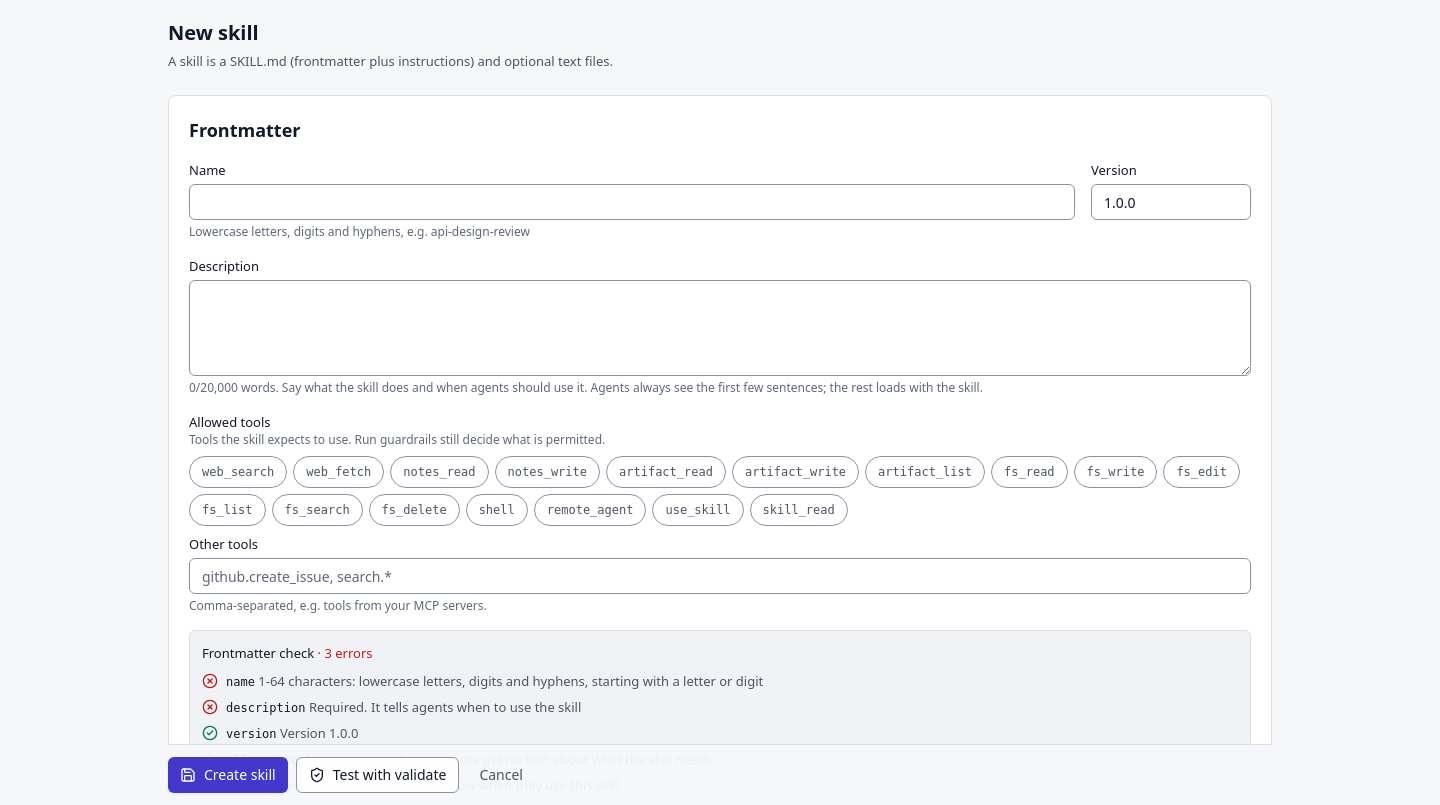
Test case: Authoring helpers › gives live frontmatter feedback and a source preview
The image size is (1440, 805).
Check: the element "Frontmatter check" shows "3 errors", box x1=318 y1=644 x2=372 y2=662
Type "my-skill" into the field labelled "Name". click: (632,202)
box: x1=189 y1=184 x2=1075 y2=220
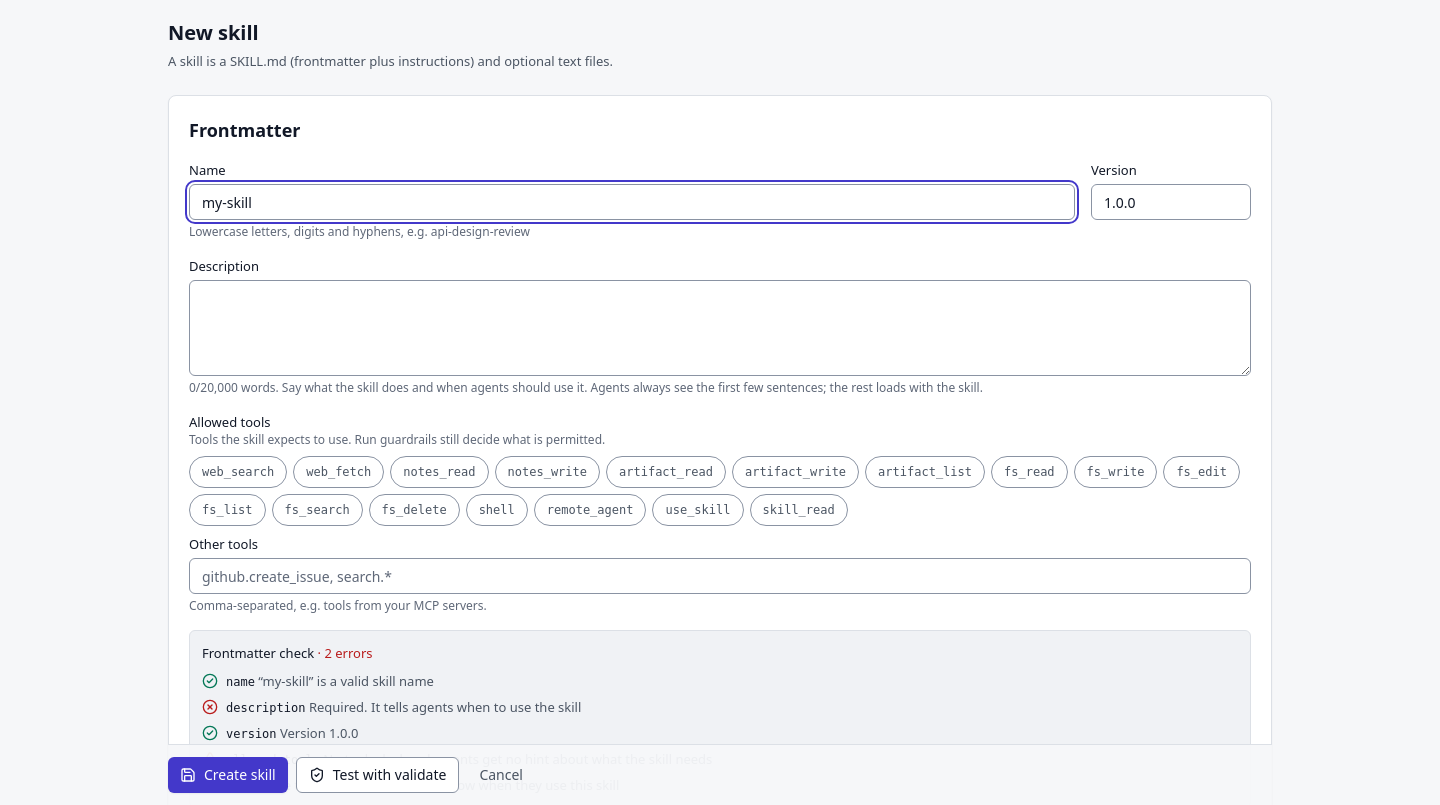
Type "Does a thing. Use when needed." into the text box labelled "Description". click: (720,328)
box: x1=189 y1=280 x2=1251 y2=376
(page scrolled)
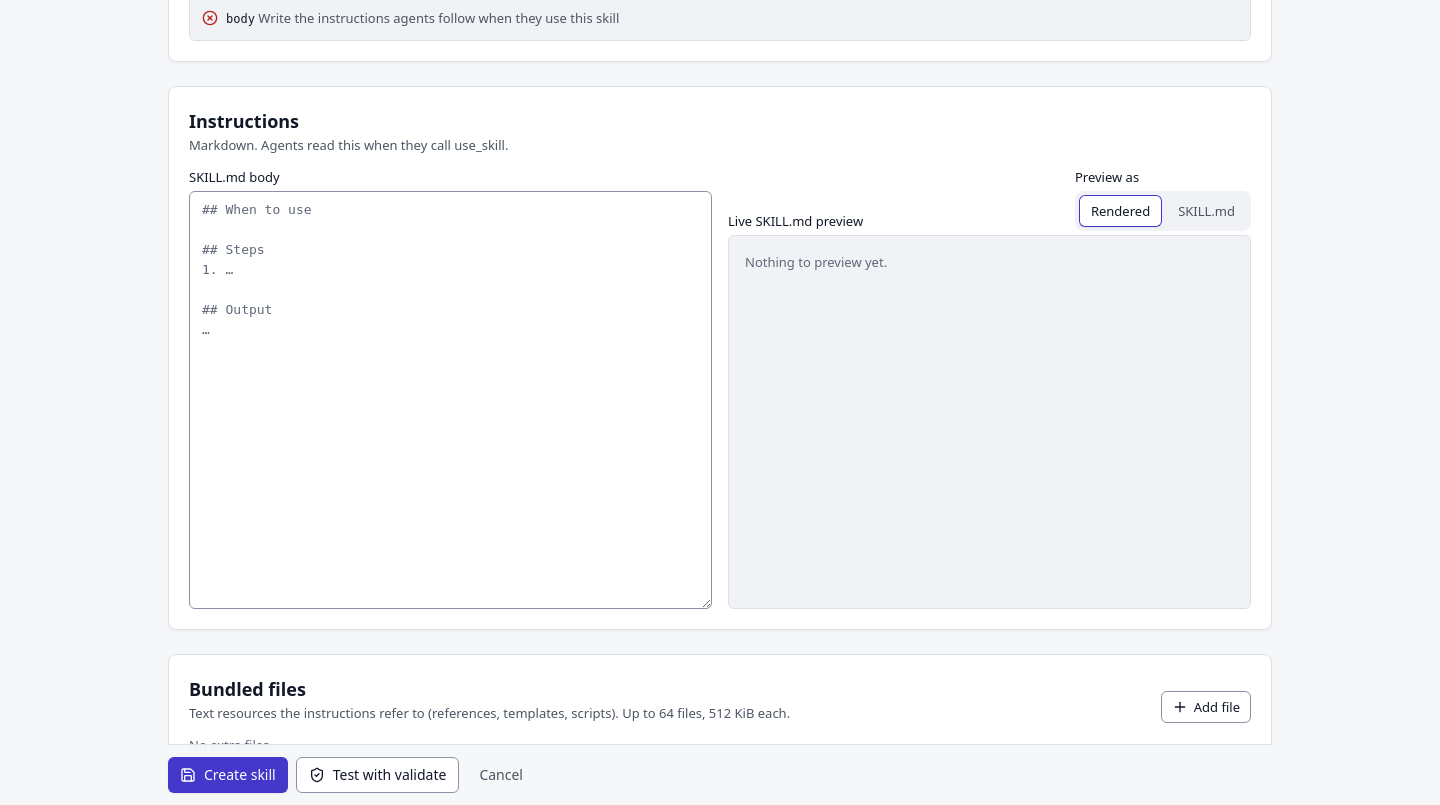
Type "Step one." into the text box labelled "SKILL.md body". click: (450,400)
box: x1=189 y1=191 x2=712 y2=609
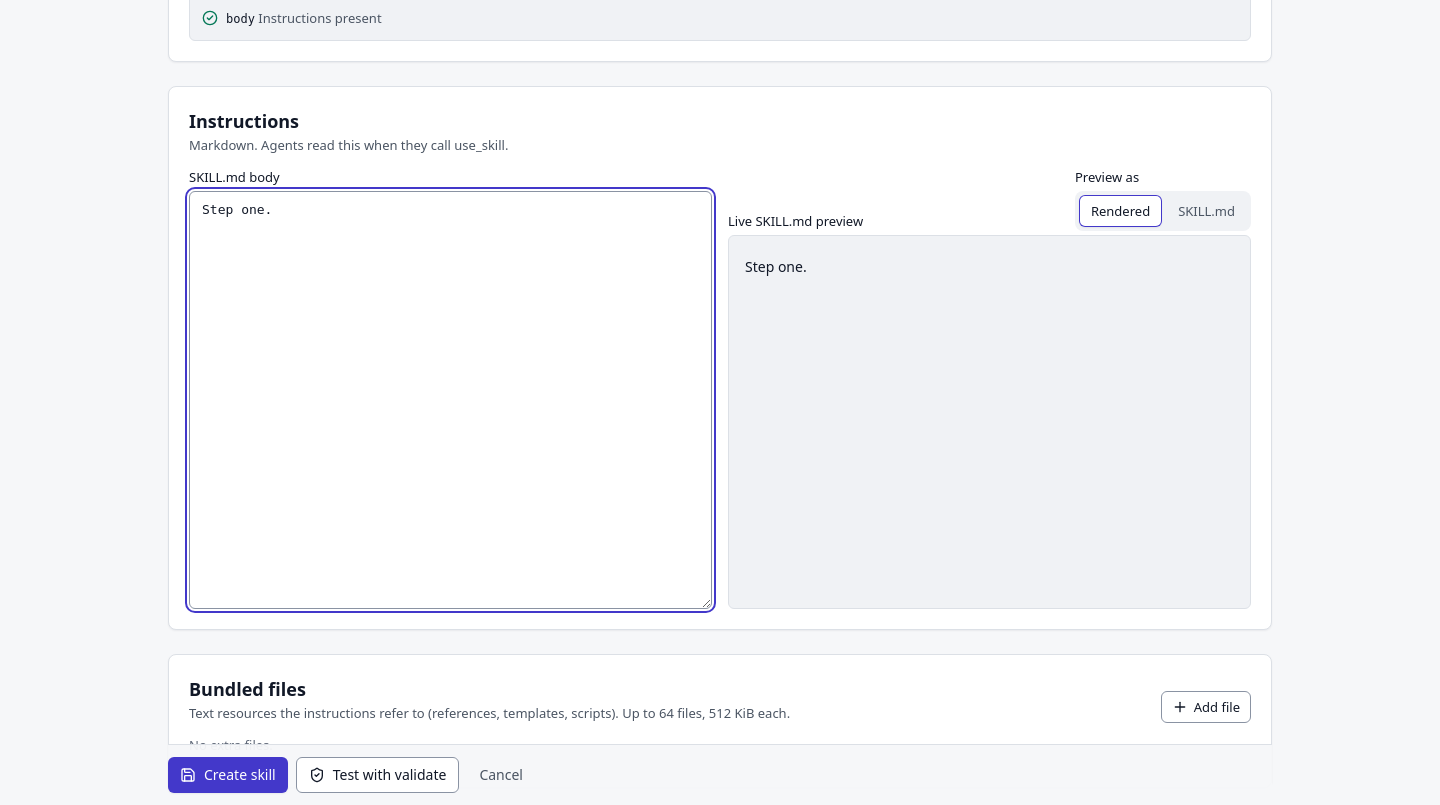
Click the radio button labelled "SKILL.md". click: (1207,211)
box: x1=1166 y1=195 x2=1247 y2=227
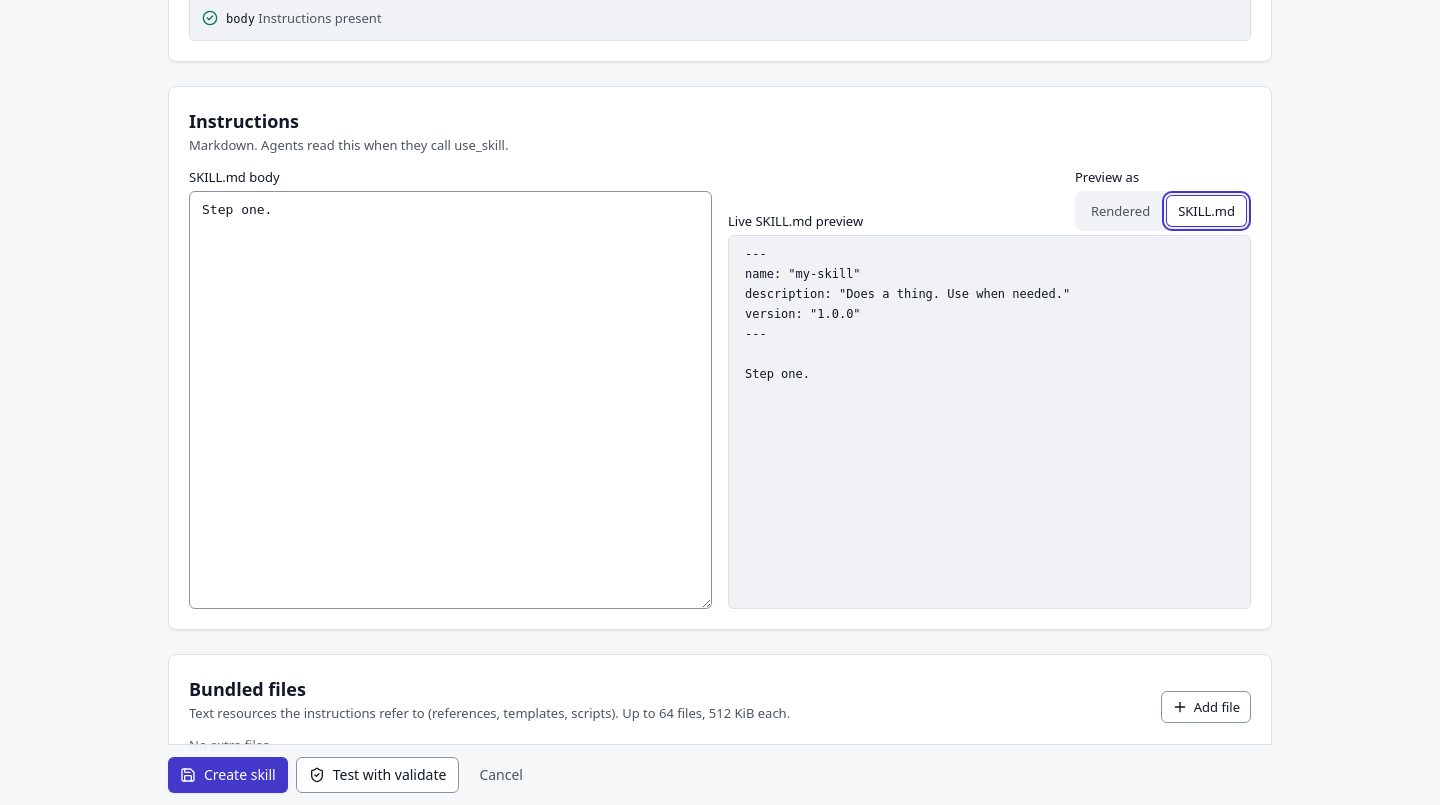
Check: the text named "SKILL.md source preview" shows "name: \"my-skill\"", box x1=745 y1=247 x2=1070 y2=381
